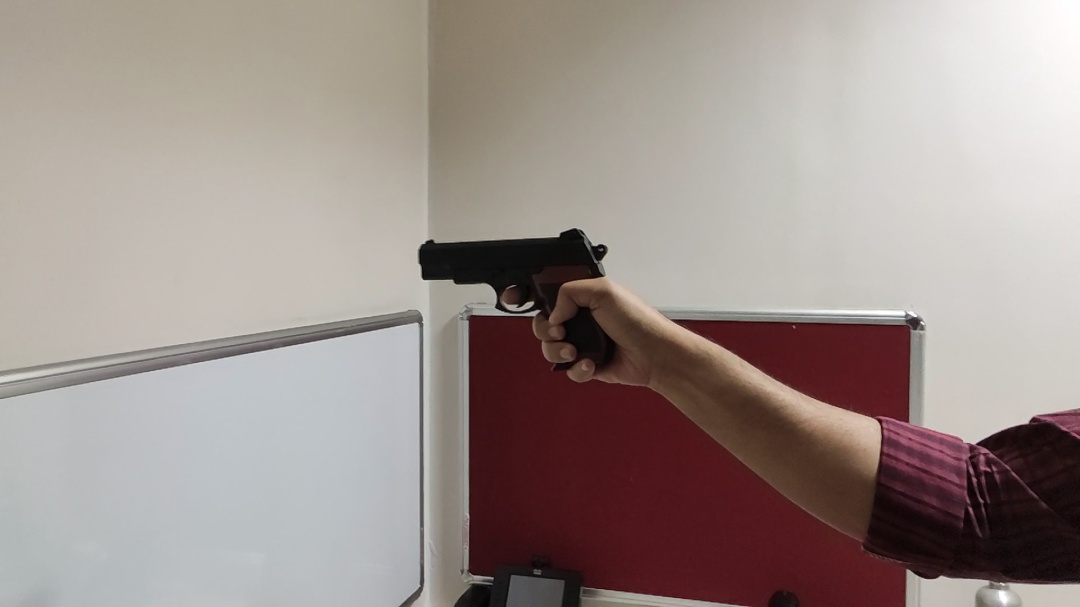gun: (418, 227, 619, 371)
